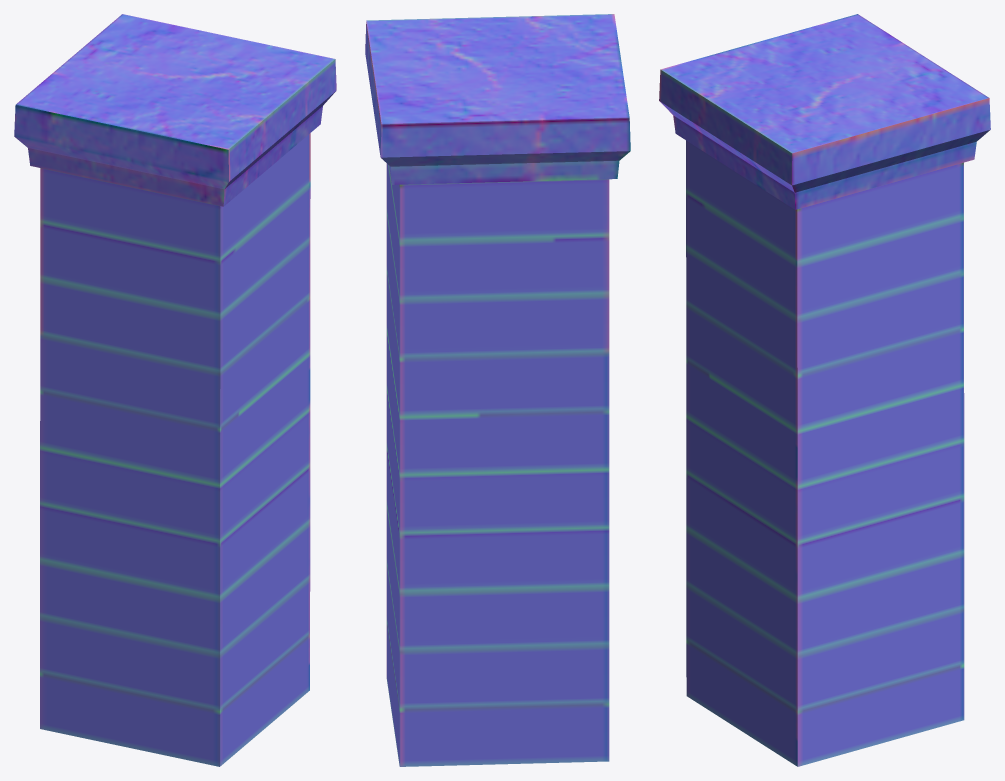
3 renders of one model, left to right at view 1: azimuth 30°, elevation 25°; view 2: azimuth 150°, elevation 25°; view 3: azimuth 270°, elevation 25°, orthographic. The views are drawn at different scales.
Visible parts, largest first — view 1: pillar_low_034; view 2: pillar_low_034; view 3: pillar_low_034.
Boxes of the visible parts, <box> form: pillar_low_034: <box>14,14,336,766</box>; pillar_low_034: <box>365,14,630,766</box>; pillar_low_034: <box>659,14,990,766</box>.
Bounding box in the file's own units: 71.35 × 148 × 71.24.
